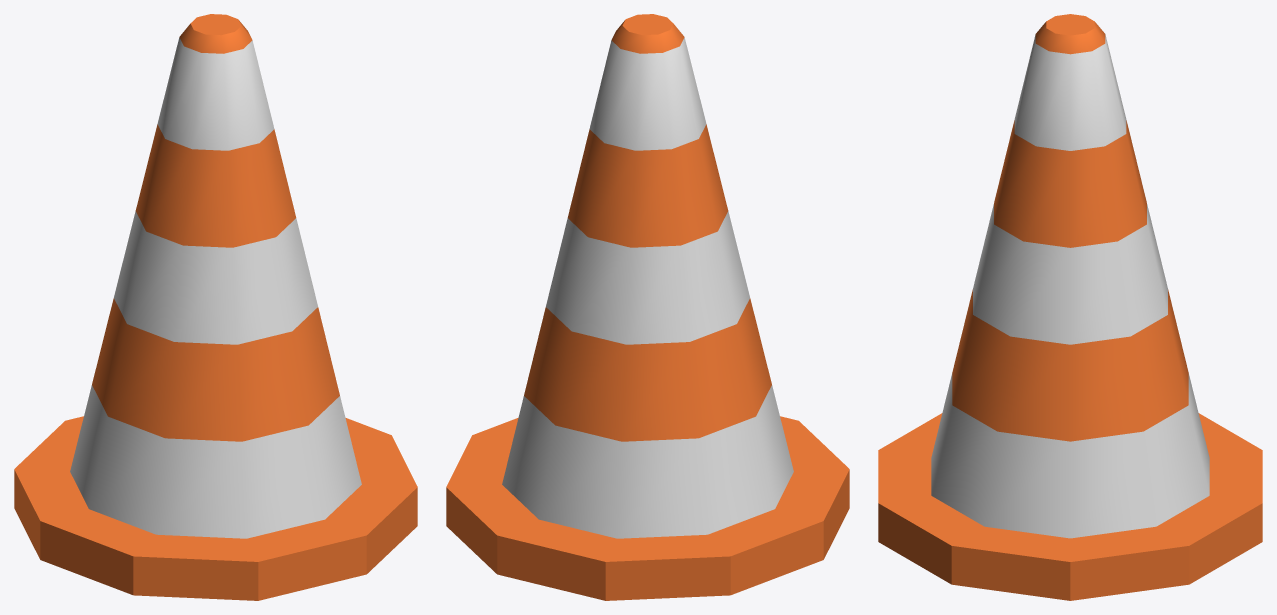
Rendered from Traffic_cone_barrier_1.FBX.
3 renders of one model, left to right at view 1: azimuth 30°, elevation 25°; view 2: azimuth 150°, elevation 25°; view 3: azimuth 270°, elevation 25°, orthographic.
Parts seen in each view (by area): view 1: Traffic cone barrier 01; view 2: Traffic cone barrier 01; view 3: Traffic cone barrier 01.
Part boxes in pixels (x1=…): Traffic cone barrier 01: x1=14, y1=14, x2=417, y2=600; Traffic cone barrier 01: x1=446, y1=14, x2=849, y2=600; Traffic cone barrier 01: x1=878, y1=14, x2=1262, y2=600.
Bounding box in the file's own units: 0.7195 × 0.9635 × 0.6843.
Materials: 1 (1 with a texture image).
